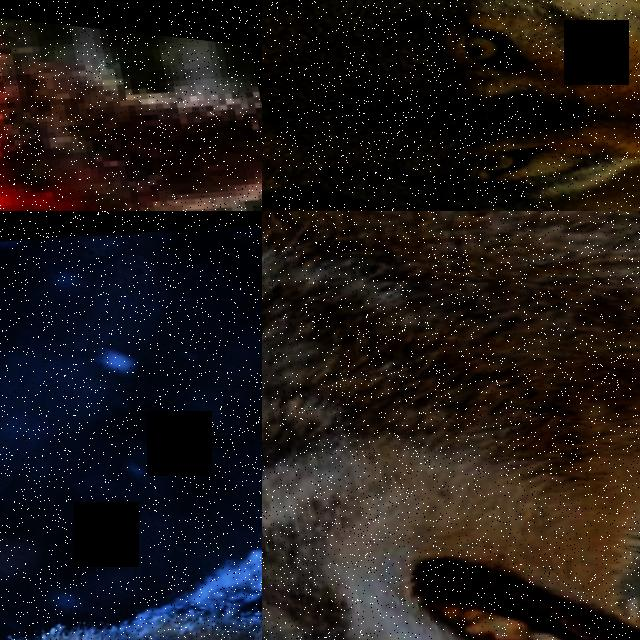wolf: (262, 211, 640, 640), (262, 0, 640, 211), (0, 354, 262, 640), (0, 0, 262, 211), (262, 77, 640, 211)
